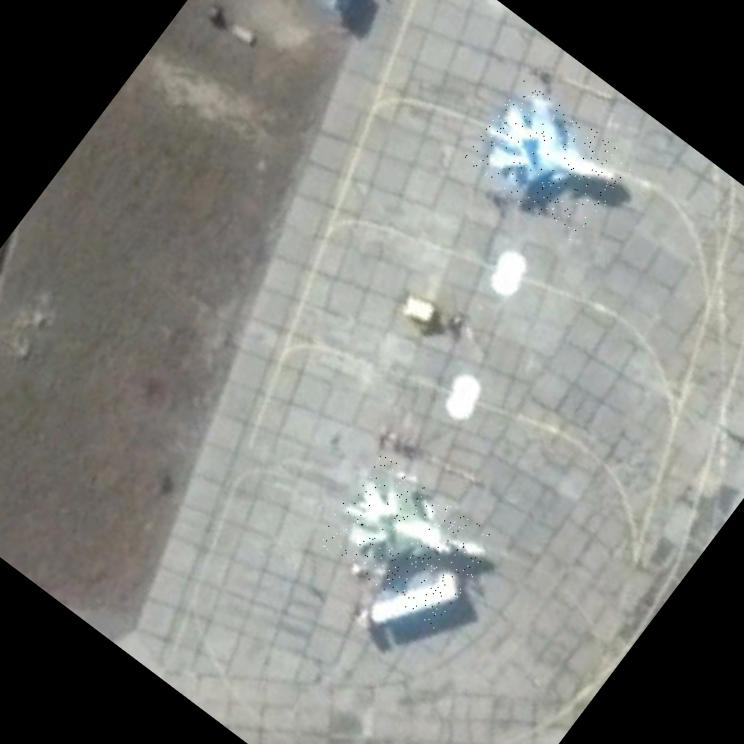A19: (314, 451, 499, 630), (462, 77, 637, 244)
